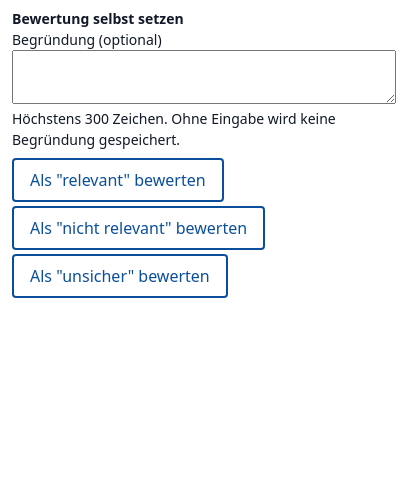
Test: RelevanceVerdictControl › shows the German message of a refused write unchanged and stays usable
Click the button "Als \"relevant\" bewerten" at [118, 180], box [12, 158, 224, 202]
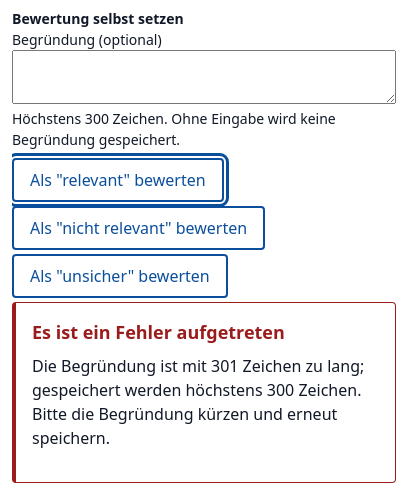
Now the message shows "Es ist ein Fehler aufgetreten", box [32, 320, 285, 344]
